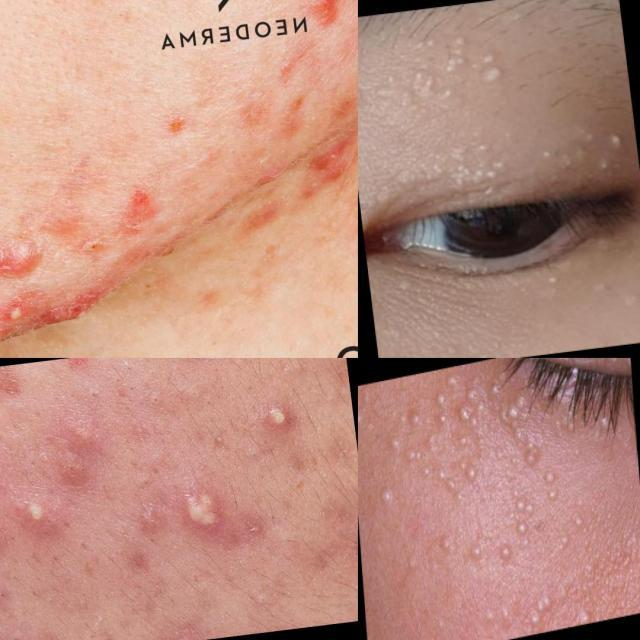Pimples: (367, 28, 525, 120), (499, 258, 640, 328), (388, 136, 530, 202), (514, 118, 632, 183), (492, 367, 547, 466), (0, 201, 44, 287), (433, 372, 483, 435), (182, 482, 226, 542), (294, 0, 357, 41), (112, 186, 160, 234), (258, 392, 293, 456), (522, 583, 558, 632), (0, 298, 37, 342), (536, 456, 566, 508), (546, 516, 578, 564), (512, 486, 538, 542), (406, 438, 434, 484), (516, 431, 544, 477), (456, 447, 486, 488), (434, 460, 460, 501), (434, 527, 458, 562), (29, 501, 52, 534), (493, 537, 516, 570), (493, 596, 515, 630), (464, 540, 486, 572), (404, 400, 424, 434), (572, 599, 597, 626), (452, 428, 474, 457), (379, 479, 397, 512), (386, 430, 404, 460), (597, 409, 615, 439), (472, 424, 489, 454), (146, 390, 166, 414), (570, 511, 586, 536), (110, 370, 124, 392), (48, 390, 62, 408)
